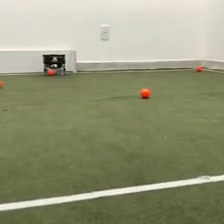ball: (137, 86, 152, 99), (46, 67, 54, 76), (194, 64, 202, 72)
goal: (1, 49, 80, 74)
robot: (41, 53, 67, 76)
